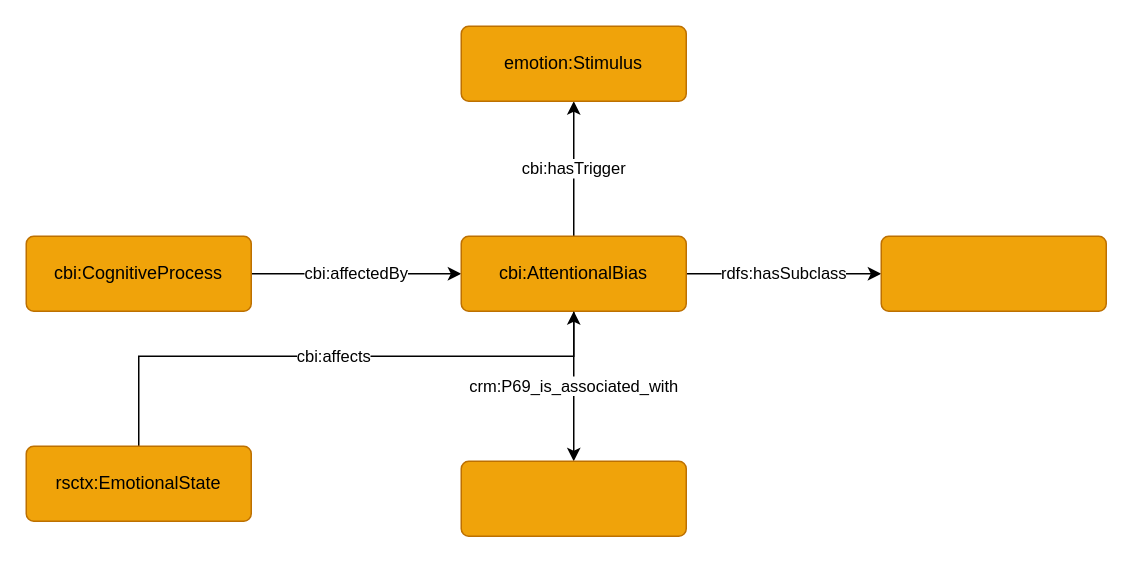
Image size: 1133x563. Some labels were removed from this diagram. Each missing label, with the centre of its shape:
"cbi:CognitiveBias" belongs at point (993, 273).
"tb:MentalDisorder" belongs at point (573, 498).
